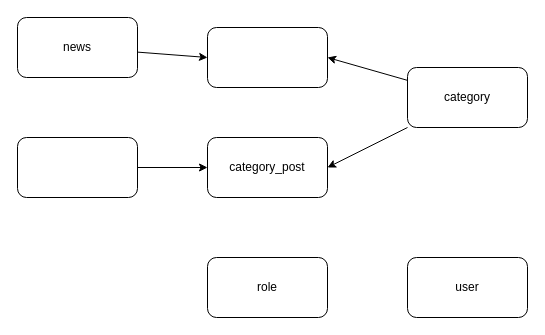
Some shapes in this 545 by 335 pixel diagram are drawn without their labels. Each missing label, with the centre of its shape:
"category_news" belongs at (x=267, y=57).
"post" belongs at (x=77, y=167).
